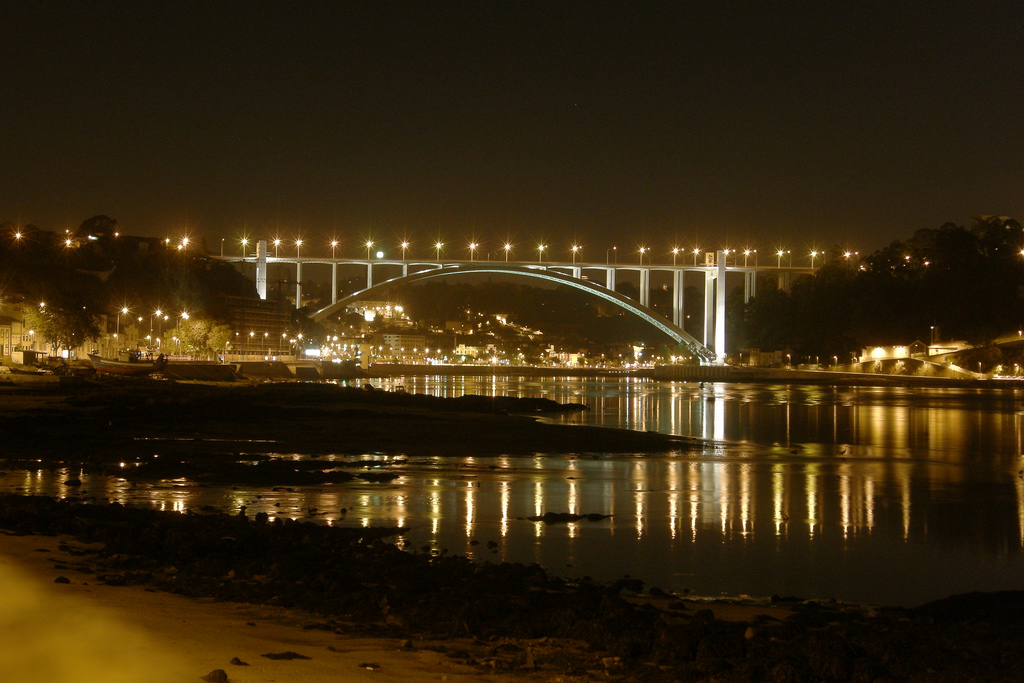arrabida: (205, 238, 823, 369)
